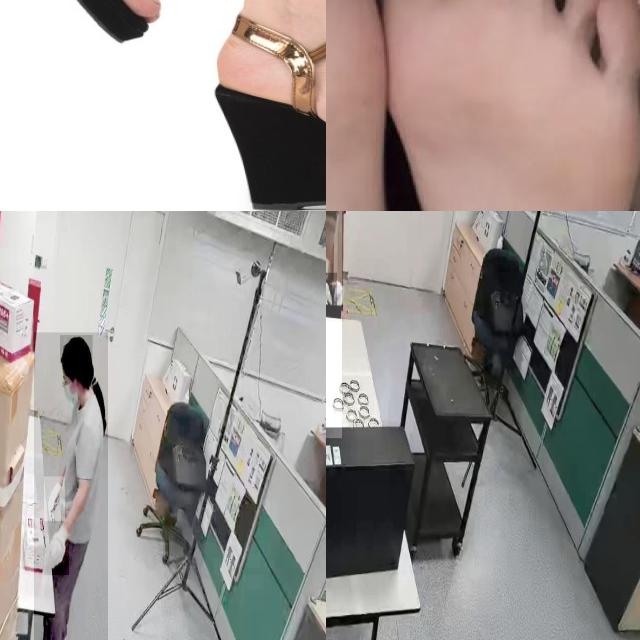Barefoots: (367, 0, 640, 211), (326, 0, 424, 211)
Sandals: (211, 2, 326, 211)
face_mask: (56, 367, 84, 412)
hand_glove: (43, 522, 69, 576), (44, 476, 65, 521), (326, 273, 337, 312)
head_nohelmet: (60, 335, 93, 364)
person: (33, 332, 108, 640)
